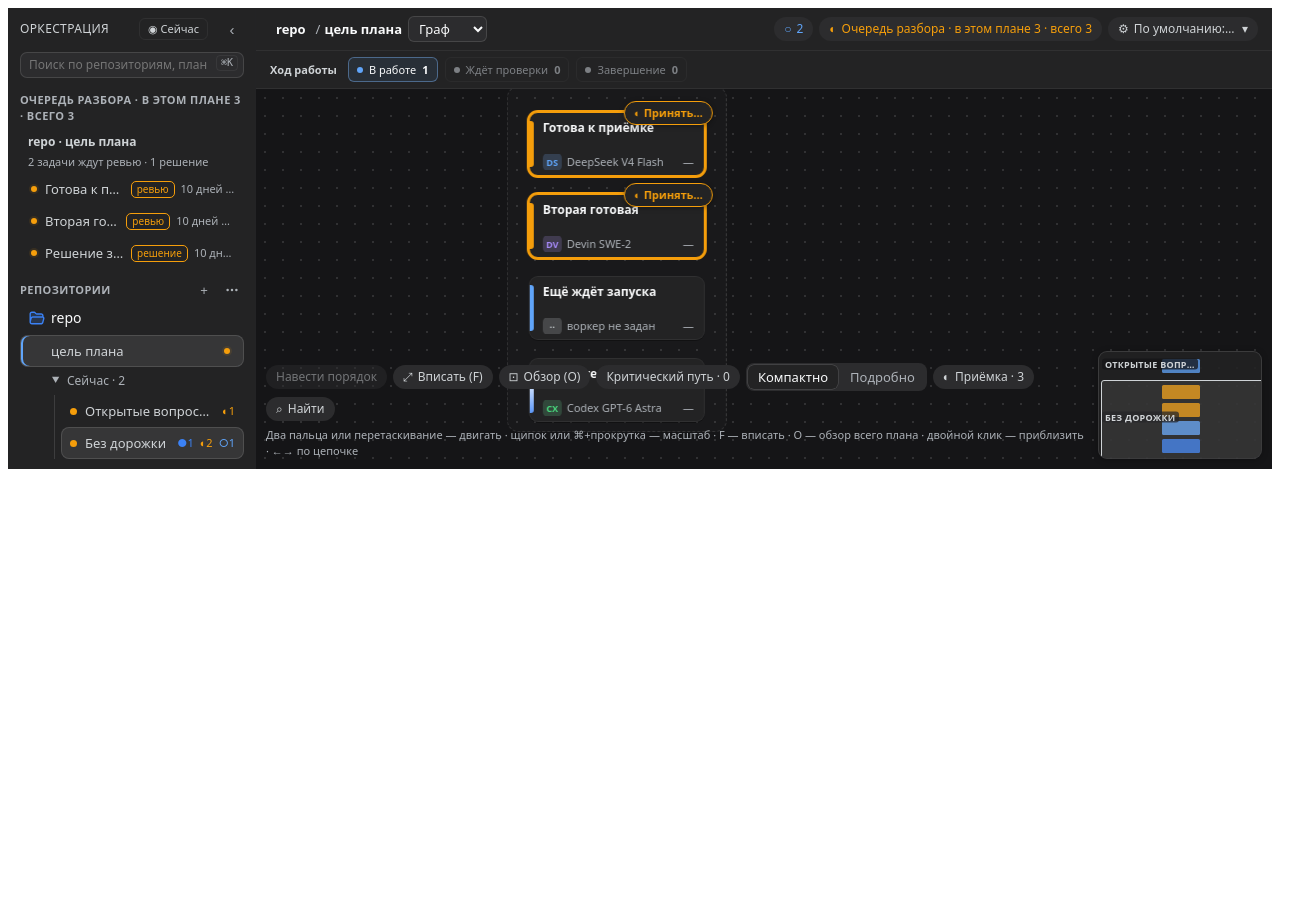
Test case: rows carry worker and wait; expanding a row reveals the changed files
The image size is (1292, 900).
Click the button "◐ Очередь разбора · в этом плане 3 · всего 3" at (961, 29), box [819,17,1102,41]
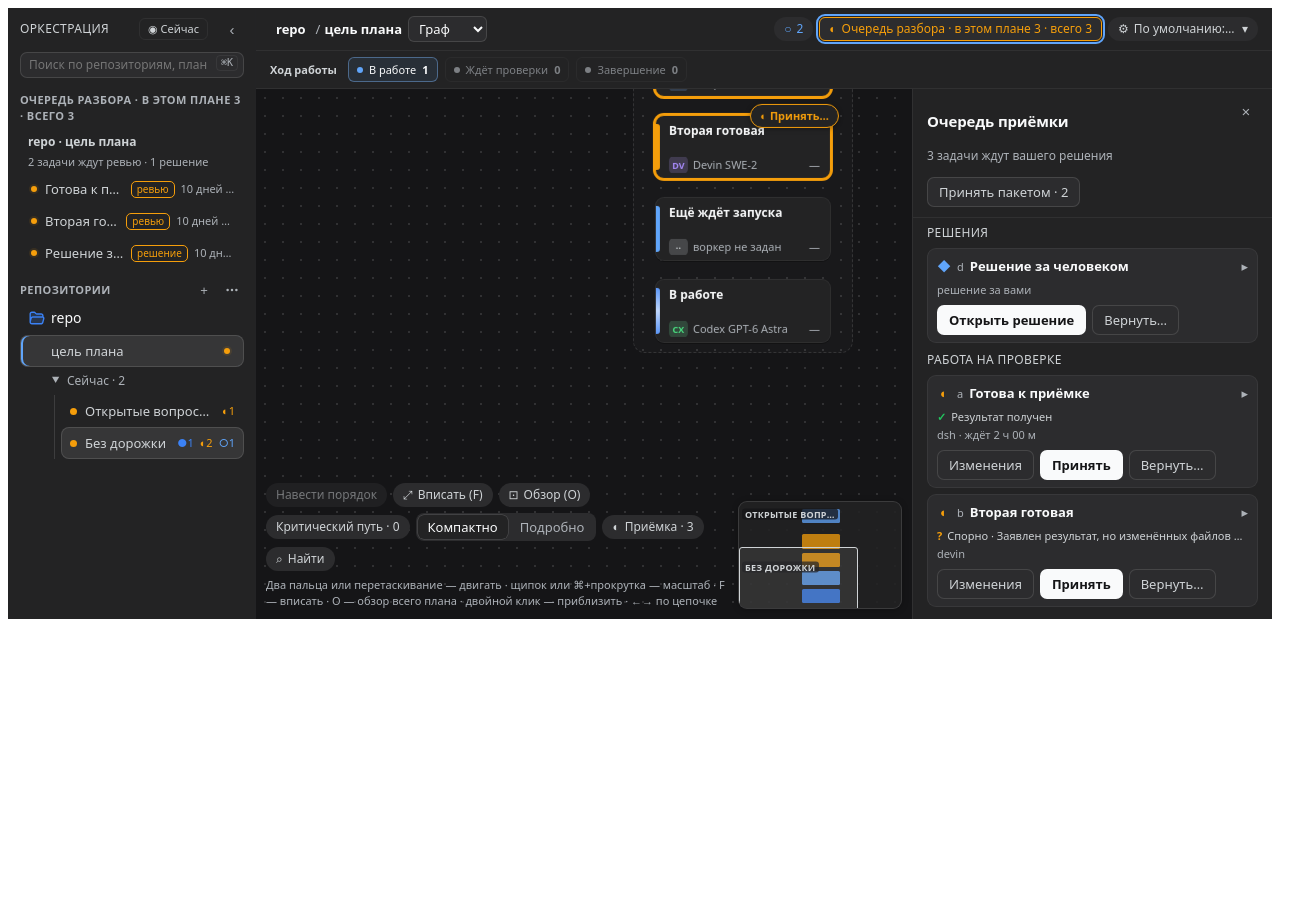
Expected: the text "src/a.ts" is not shown
Expected: the text "dsh · ждёт 2 ч 00 м" is shown, [937,427,1036,442]
Click the button "◐ a Готова к приёмке ▸" at (1092, 395), box [937,383,1248,407]
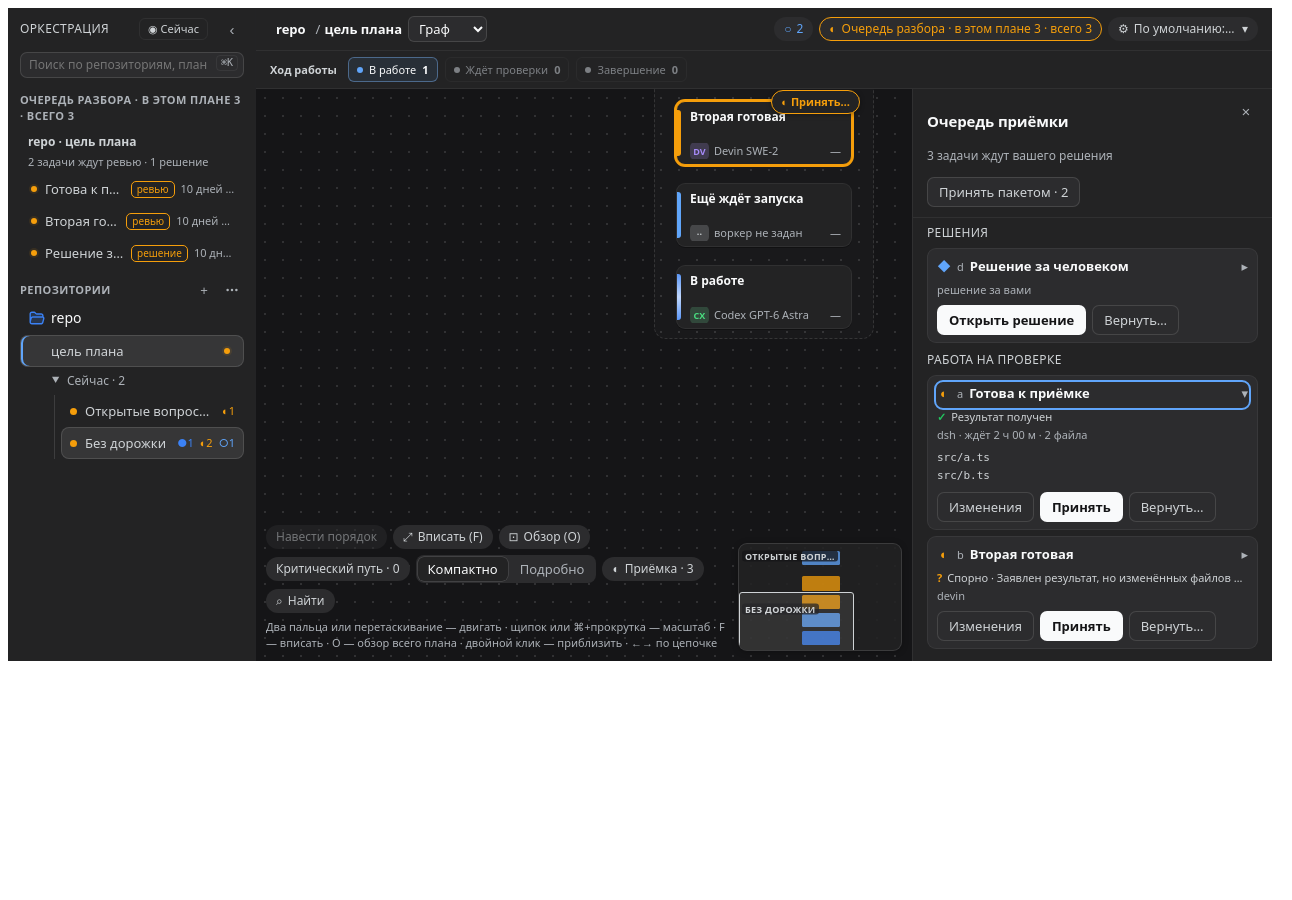
Expected: the text "dsh · ждёт 2 ч 00 м · 2 файла" is shown, [937,427,1087,442]
Expected: the text "src/a.ts" is shown, [937,451,990,464]
